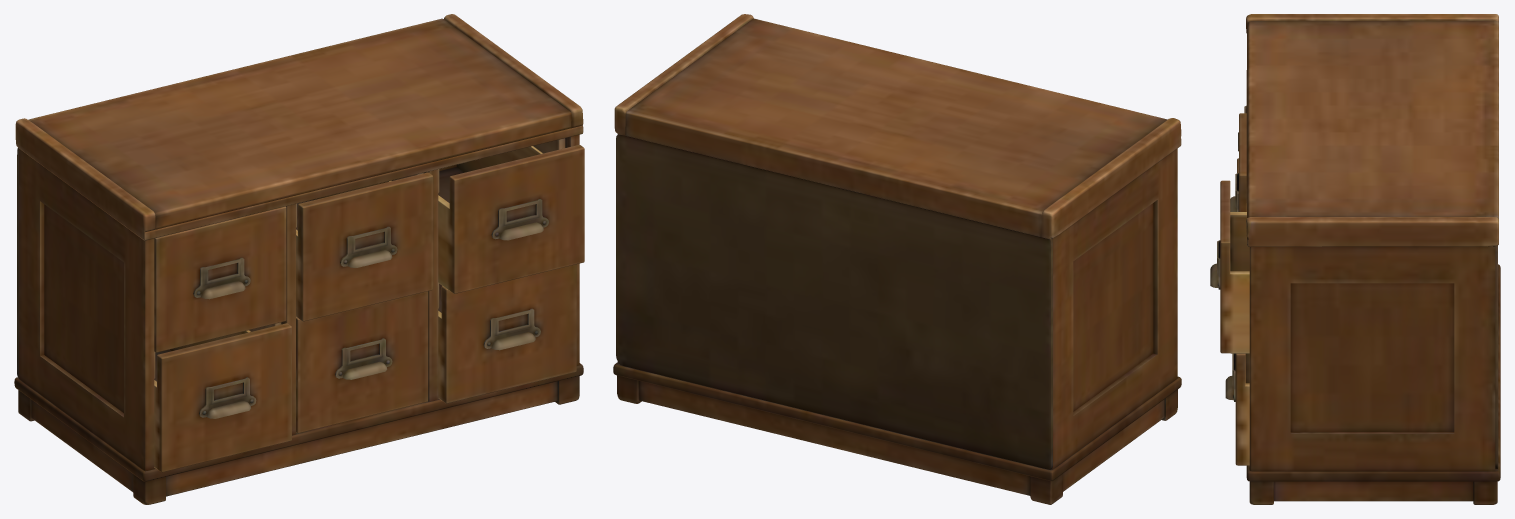
Rendered from vintage_wooden_drawer_01.glb.
3 renders of one model, left to right at view 1: azimuth 30°, elevation 25°; view 2: azimuth 150°, elevation 25°; view 3: azimuth 270°, elevation 25°, orthographic. The views are drawn at different scales.
Parts seen in each view (by area): view 1: vintage_wooden_drawer_01_body; view 2: vintage_wooden_drawer_01_body; view 3: vintage_wooden_drawer_01_body.
Boxes of the visible parts, x1=… form: vintage_wooden_drawer_01_body: x1=14, y1=14, x2=584, y2=504; vintage_wooden_drawer_01_body: x1=613, y1=14, x2=1181, y2=504; vintage_wooden_drawer_01_body: x1=1210, y1=14, x2=1500, y2=504.
Size of the model in its own units: 1.72 by 1.09 by 1.01.
1 material, 1 textured.
